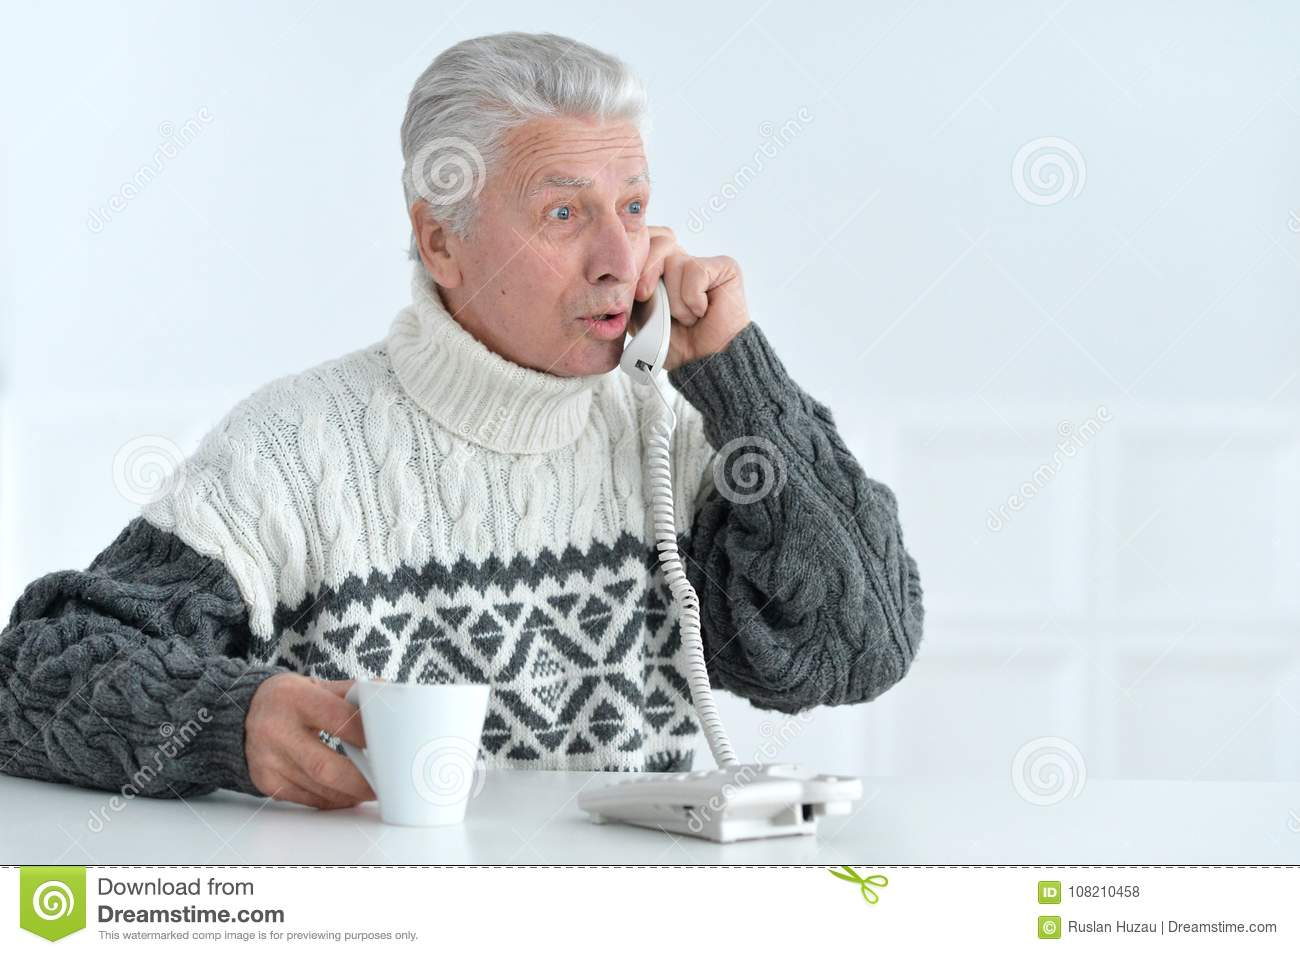phone: (628, 229, 679, 387)
talk: (512, 160, 750, 391)
